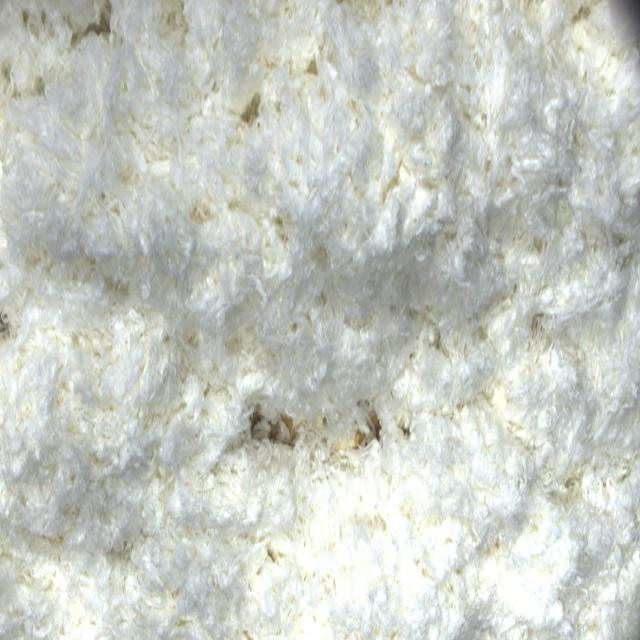dust: (253, 403, 392, 463), (59, 12, 128, 40)
